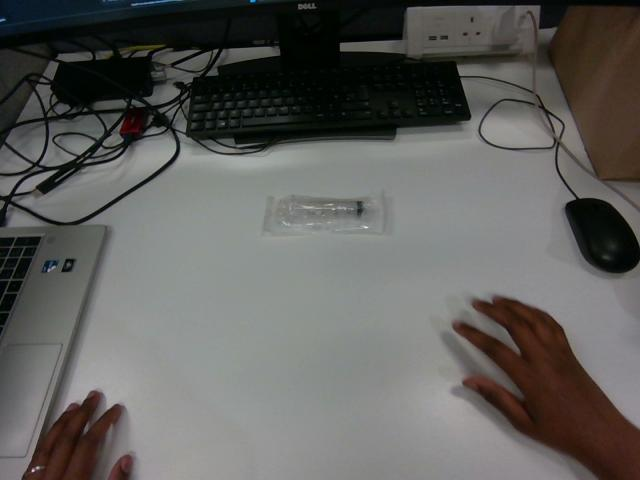syringe: (263, 194, 384, 235)
